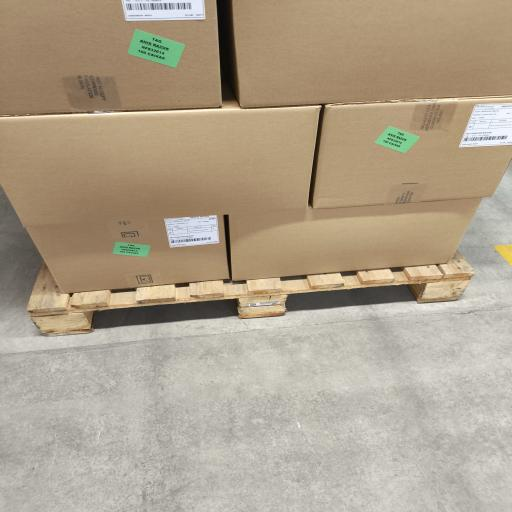pallet: (28, 252, 473, 335)
